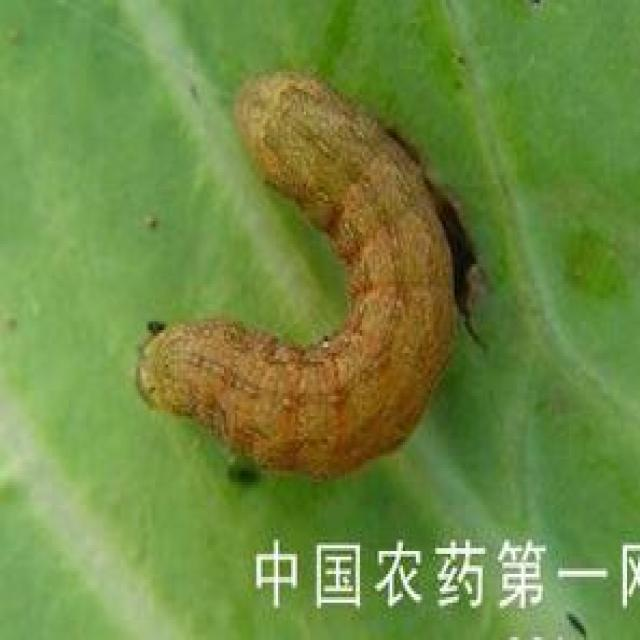armyworm: (116, 58, 490, 506)
